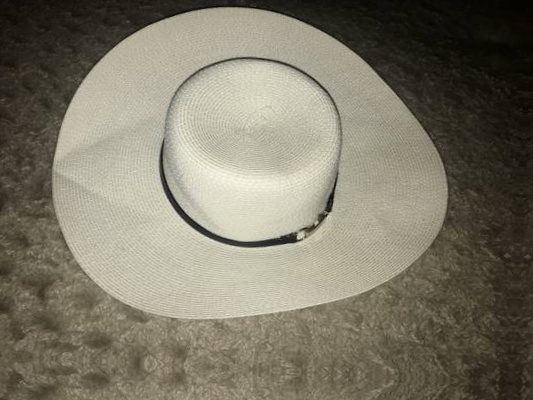Hat: (33, 0, 477, 352), (10, 386, 455, 400), (52, 0, 496, 0)
